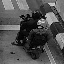motor: (16, 10, 51, 56)
